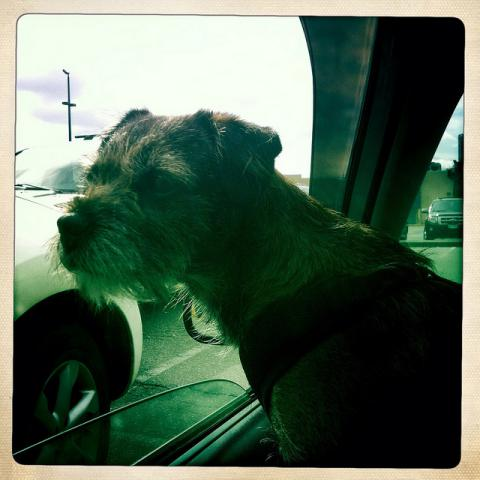car: (17, 134, 142, 444), (420, 199, 462, 240)
